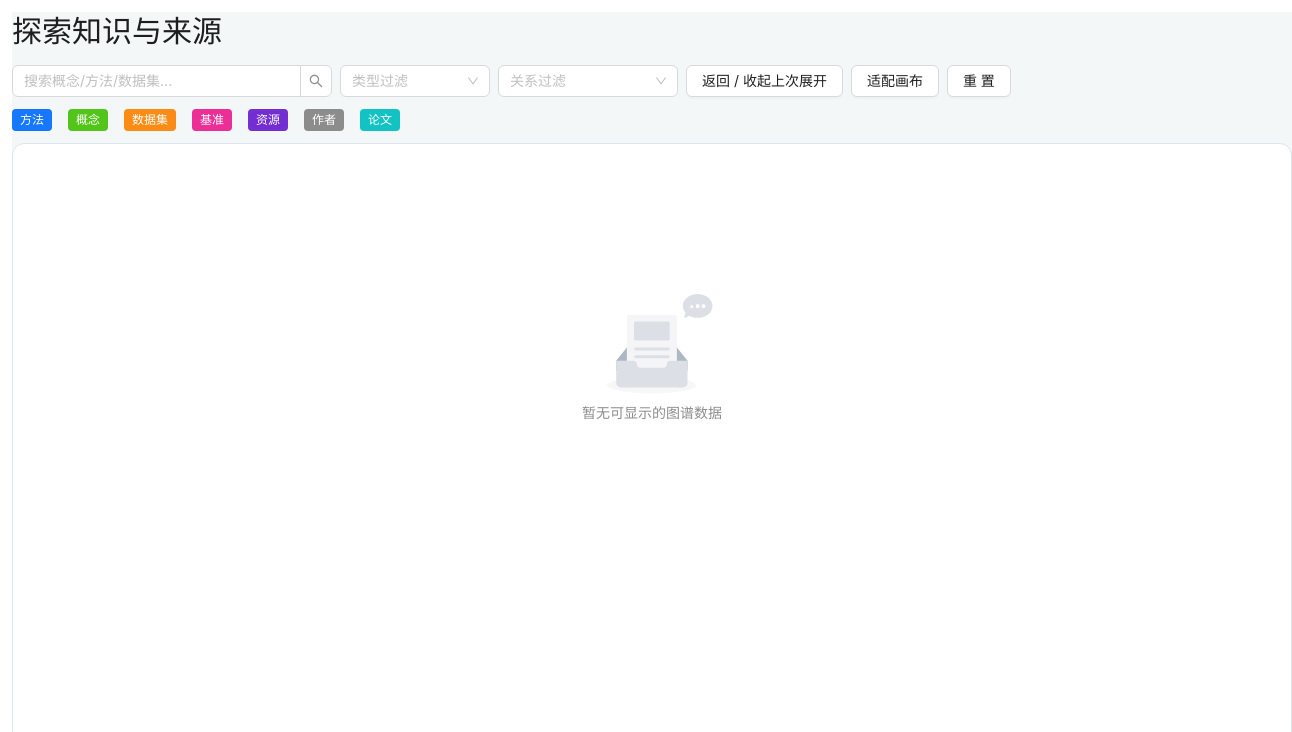
Test: empty graph search finishes in StrictMode
Expected: the text "暂无可显示的图谱数据" is shown, [582,404,722,421]
Type "missing" into the search field with placeholder "搜索概念/方法/数据集..." at (156, 81), box [12,65,301,97]
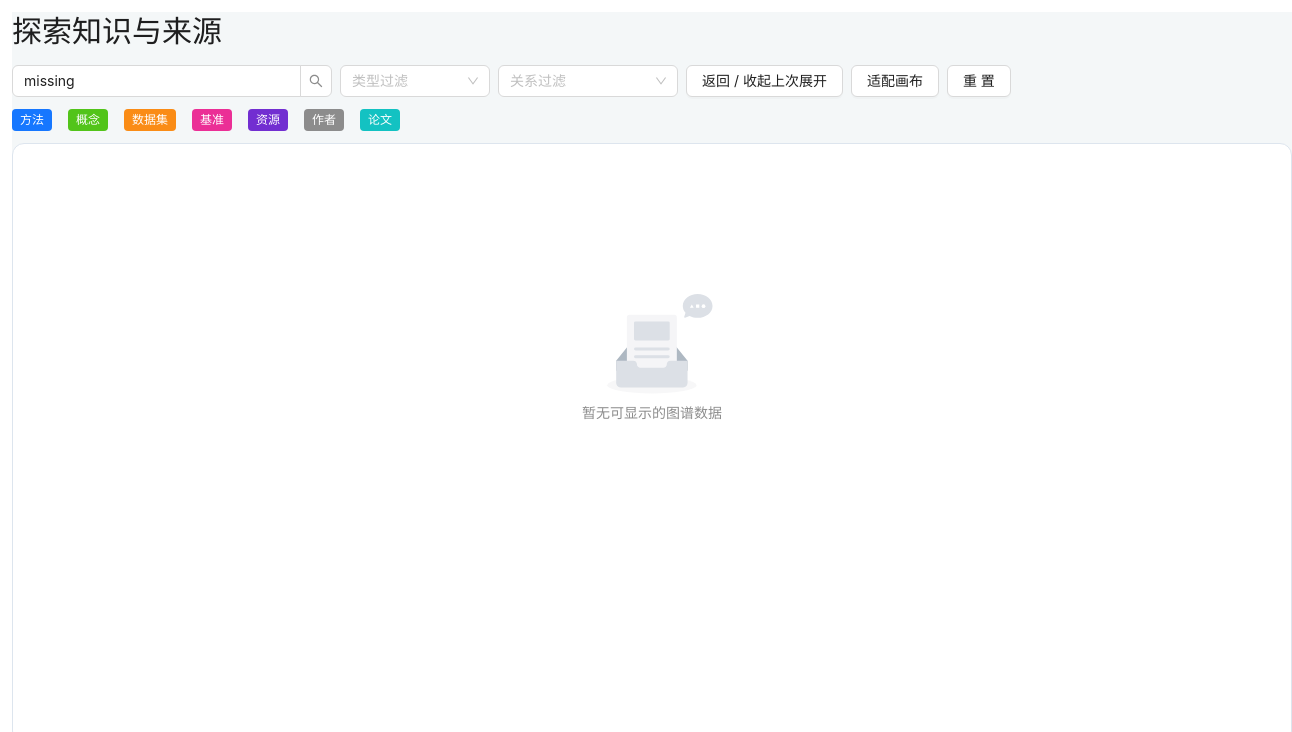
Press Enter in the search field with placeholder "搜索概念/方法/数据集...", box [12,65,301,97]
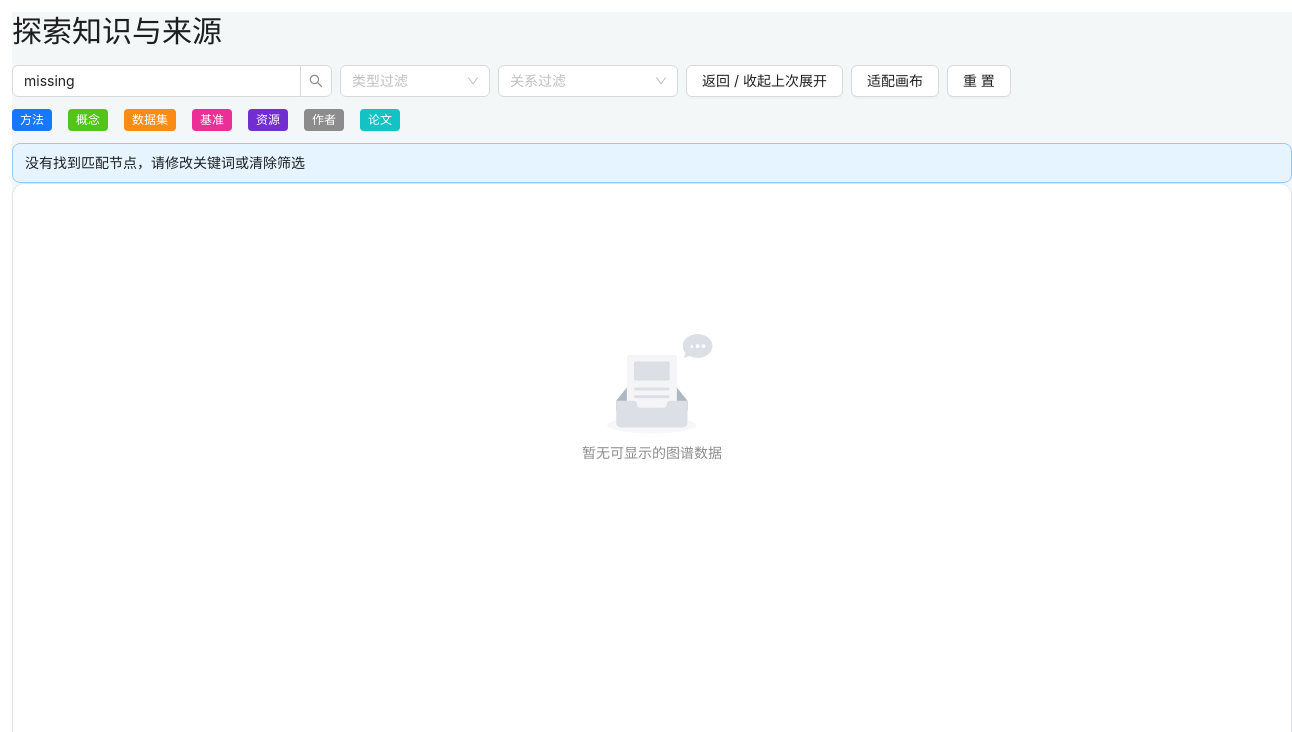
Now the text "没有找到匹配节点，请修改关键词或清除筛选" is shown, box [25,154,305,171]
